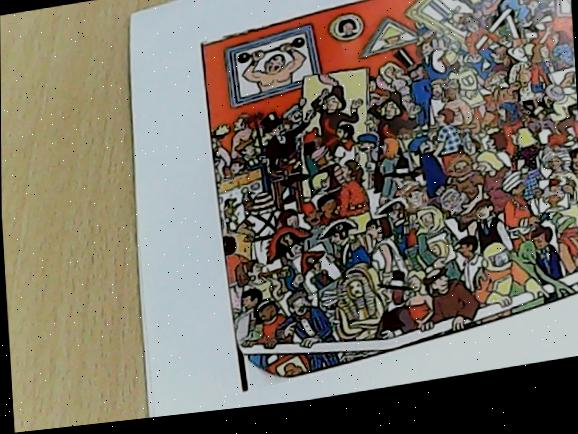waldo: (398, 188, 427, 222)
